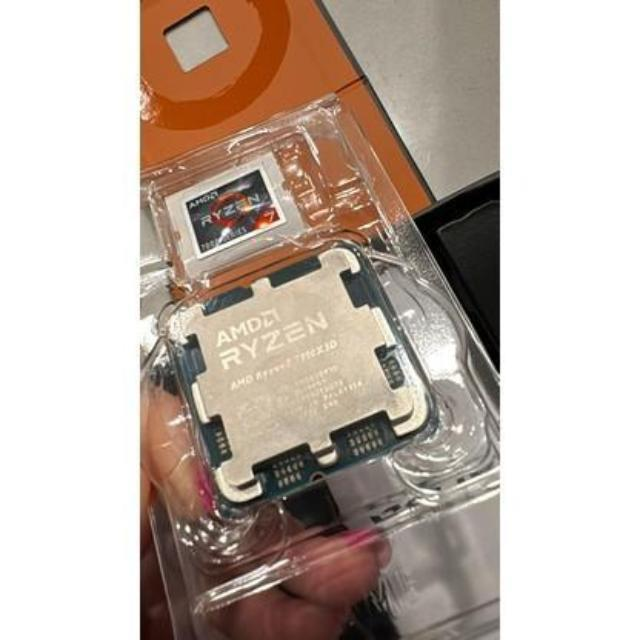CPU: (177, 252, 412, 476)
